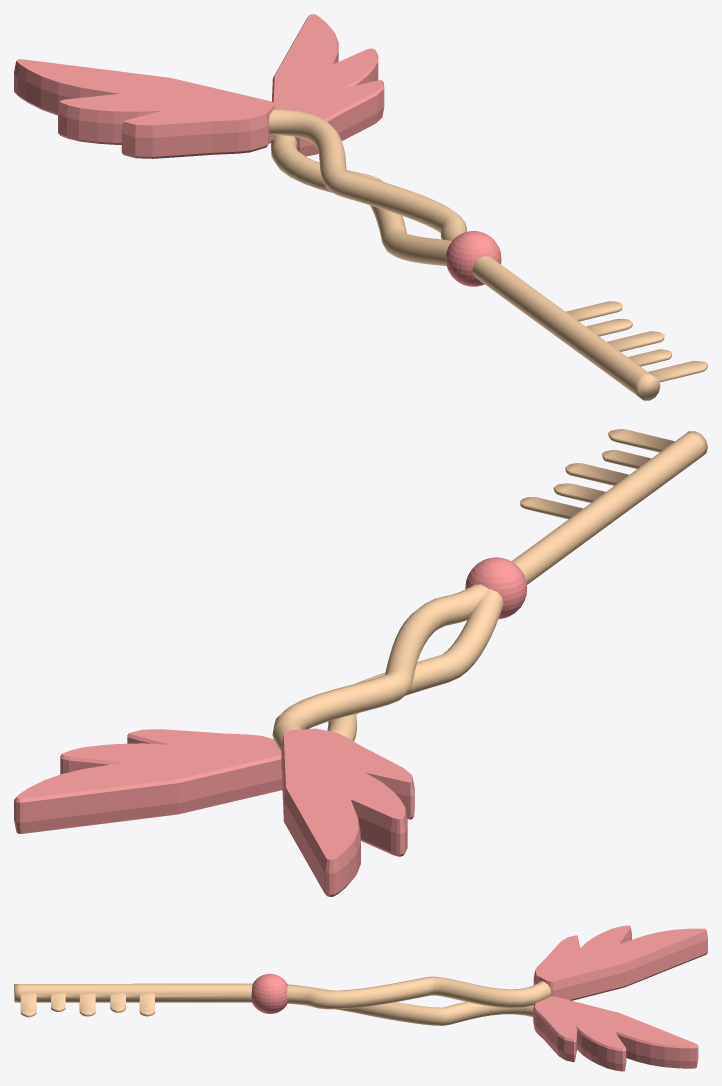
The model's file is WingKey.fbx.
The picture shows the model from 3 angles, top to bottom: view 1: azimuth 30°, elevation 25°; view 2: azimuth 150°, elevation 25°; view 3: azimuth 270°, elevation 25°; orthographic projection. The views are drawn at different scales.
Visible parts, largest first — view 1: BézierCurve.005; view 2: BézierCurve.005; view 3: BézierCurve.005.
Part boxes in pixels (<box>): BézierCurve.005: <box>14,14,707,400</box>; BézierCurve.005: <box>14,429,707,896</box>; BézierCurve.005: <box>14,925,707,1071</box>.
Bounding box in the file's own units: 111 × 20.85 × 294.
